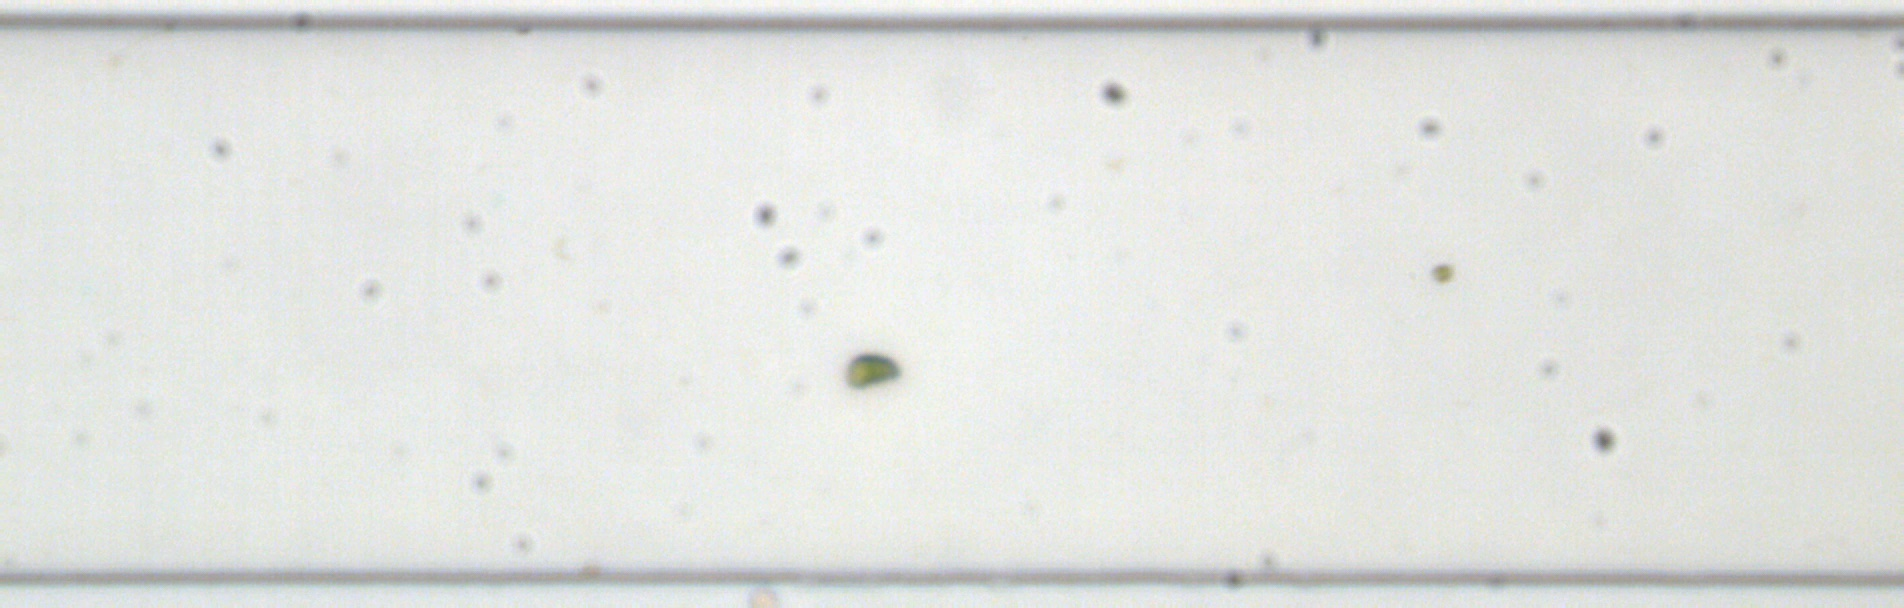Chlorella: (1429, 261, 1452, 284)
Platymonas: (841, 350, 901, 392)
